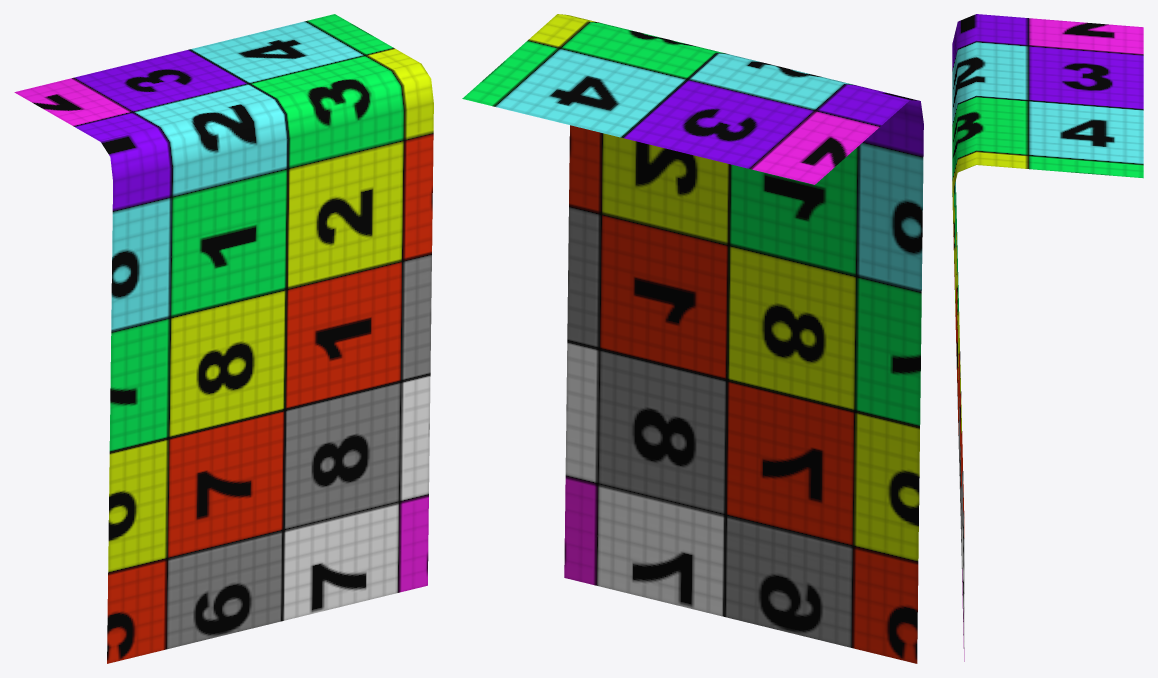
The model's file is Vines01.fbx.
3 renders of one model, left to right at view 1: azimuth 30°, elevation 25°; view 2: azimuth 150°, elevation 25°; view 3: azimuth 270°, elevation 25°, orthographic. The views are drawn at different scales.
Parts seen in each view (by area): view 1: vines01; view 2: vines01; view 3: vines01.
Boxes of the visible parts, x1,y1,x2,y2 form: vines01: (14,14,433,663); vines01: (462,14,923,663); vines01: (952,14,1143,661).
Bounding box in the file's own units: 19.84 × 30.57 × 10.61.
1 material, 1 textured.
